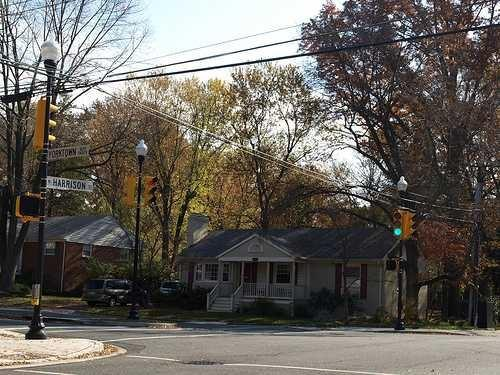green: (394, 210, 403, 242)
